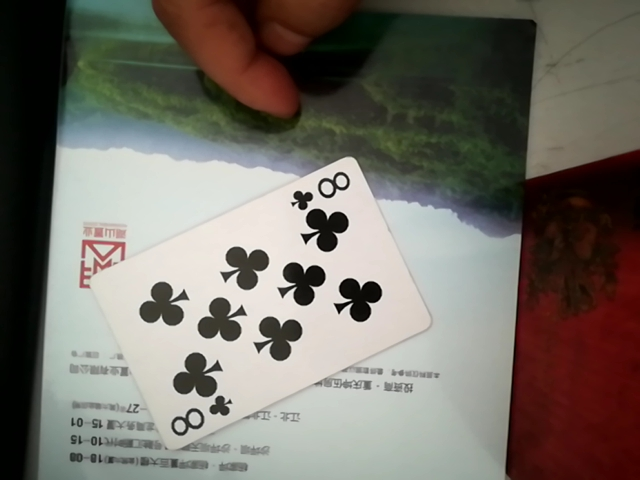mh 8: (79, 146, 438, 445)
